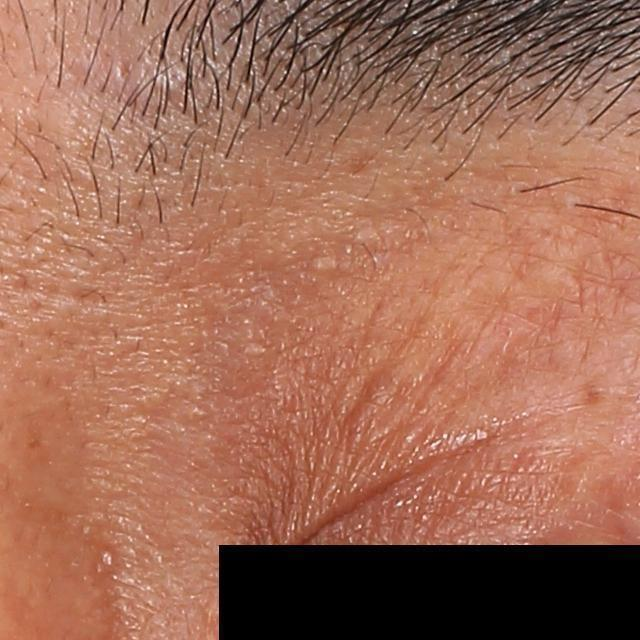comedo: (100, 548, 119, 570)
